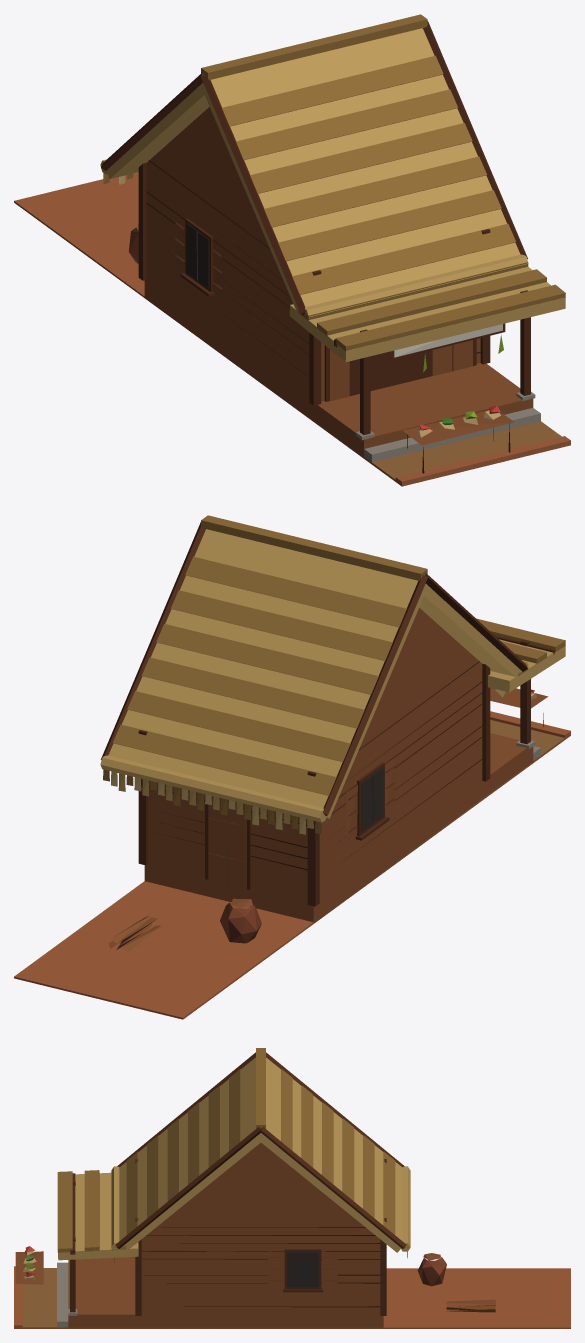
The model's file is bay1_one.glb.
3 renders of one model, top to bottom at view 1: azimuth 30°, elevation 25°; view 2: azimuth 150°, elevation 25°; view 3: azimuth 270°, elevation 25°, orthographic. The views are drawn at different scales.
Parts seen in each view (by area): view 1: body, windows; view 2: body, windows; view 3: body, windows.
Part boxes in pixels (x1,y1,x2,y2): body: (14, 14, 570, 486); windows: (186, 223, 209, 288); body: (14, 515, 570, 1019); windows: (361, 767, 383, 831); body: (14, 1048, 570, 1328); windows: (287, 1252, 318, 1286).
Size of the model in its own units: 5.38 by 6.7 by 15.9.
